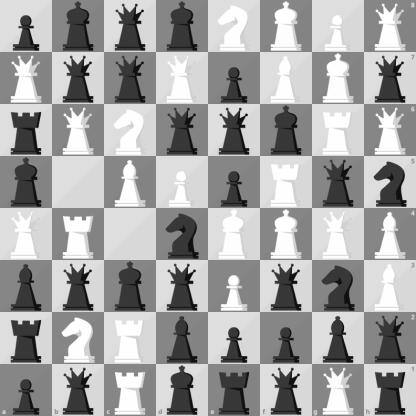B: (364, 260, 416, 312), (364, 209, 416, 260), (105, 157, 156, 208), (261, 53, 312, 104)
K: (209, 209, 260, 260), (261, 1, 312, 52), (261, 209, 312, 260), (313, 53, 364, 104)
N: (53, 313, 104, 364), (105, 105, 156, 156), (209, 1, 260, 52)
P: (157, 157, 208, 208), (209, 261, 260, 312), (313, 1, 364, 52)
Q: (312, 364, 364, 416), (364, 0, 416, 52), (364, 104, 416, 156), (1, 53, 52, 104), (1, 209, 52, 260), (53, 105, 104, 156), (157, 53, 208, 104), (313, 209, 364, 260)
R: (104, 364, 156, 416), (53, 209, 104, 260), (105, 313, 156, 364), (261, 157, 312, 208), (313, 105, 364, 156)
b: (1, 261, 52, 312), (157, 313, 208, 364), (313, 313, 364, 364)
board: (0, 0, 415, 415)
k: (156, 364, 209, 416), (1, 157, 52, 208), (53, 1, 104, 52), (105, 261, 156, 312), (157, 1, 208, 52), (261, 105, 312, 156)
n: (364, 156, 416, 209), (157, 209, 208, 260), (313, 261, 364, 312)
p: (0, 364, 52, 416), (1, 1, 52, 52), (209, 53, 260, 104), (209, 157, 260, 208), (209, 313, 260, 364), (261, 313, 312, 364)
q: (52, 364, 104, 416), (260, 364, 312, 416), (364, 52, 416, 104), (364, 312, 416, 364), (53, 53, 104, 104), (53, 261, 104, 312), (105, 1, 156, 52), (105, 53, 156, 104), (157, 105, 208, 156), (157, 261, 208, 312), (209, 105, 260, 156), (261, 261, 312, 312), (313, 157, 364, 208)
r: (364, 364, 416, 416), (209, 364, 260, 416), (1, 105, 52, 156), (1, 313, 52, 364)
